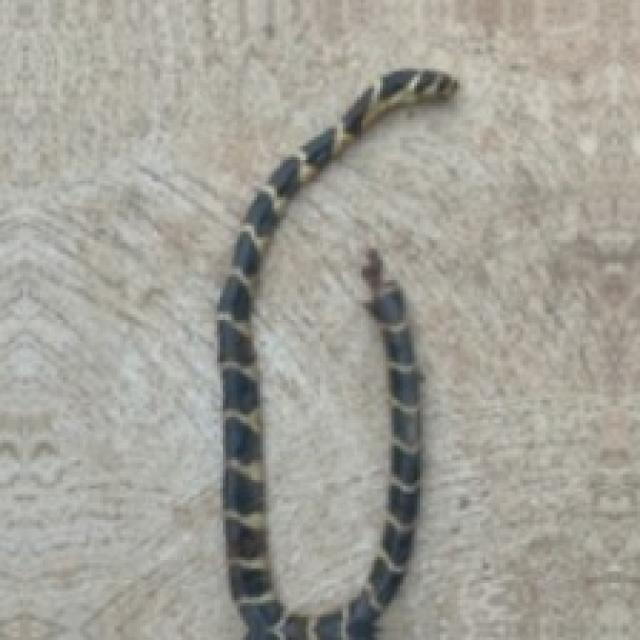king cobra: (217, 69, 454, 637)
